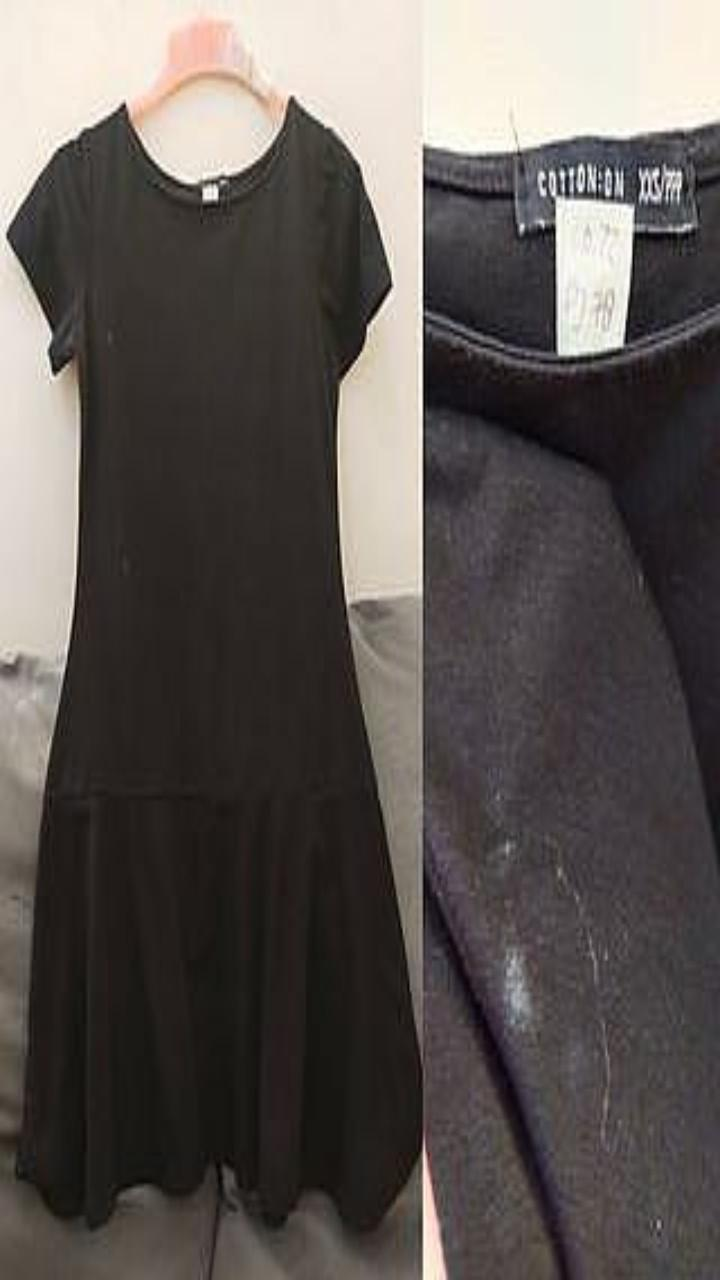Dresses: (7, 98, 421, 1228), (423, 124, 719, 1279)
